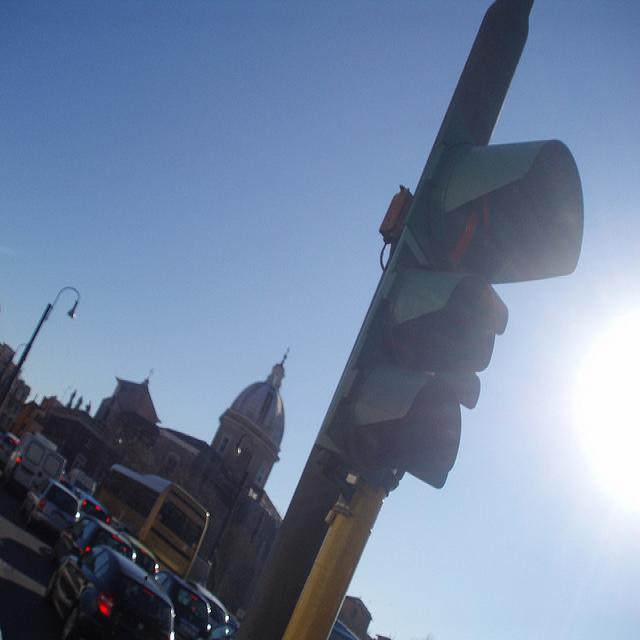Vehicle: (96, 462, 210, 582), (48, 550, 171, 629), (147, 570, 212, 640), (55, 516, 137, 566), (1, 432, 67, 493), (21, 478, 78, 537), (187, 579, 241, 633), (110, 531, 161, 580), (72, 487, 110, 526), (60, 469, 96, 495), (0, 432, 19, 464)
